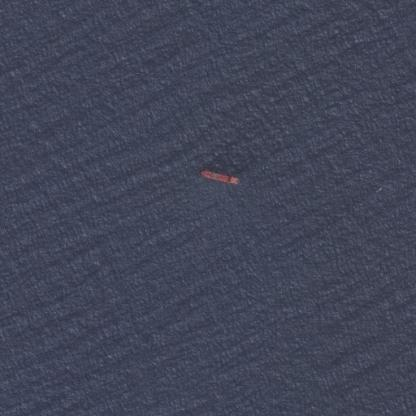ship: (197, 9, 240, 12)
